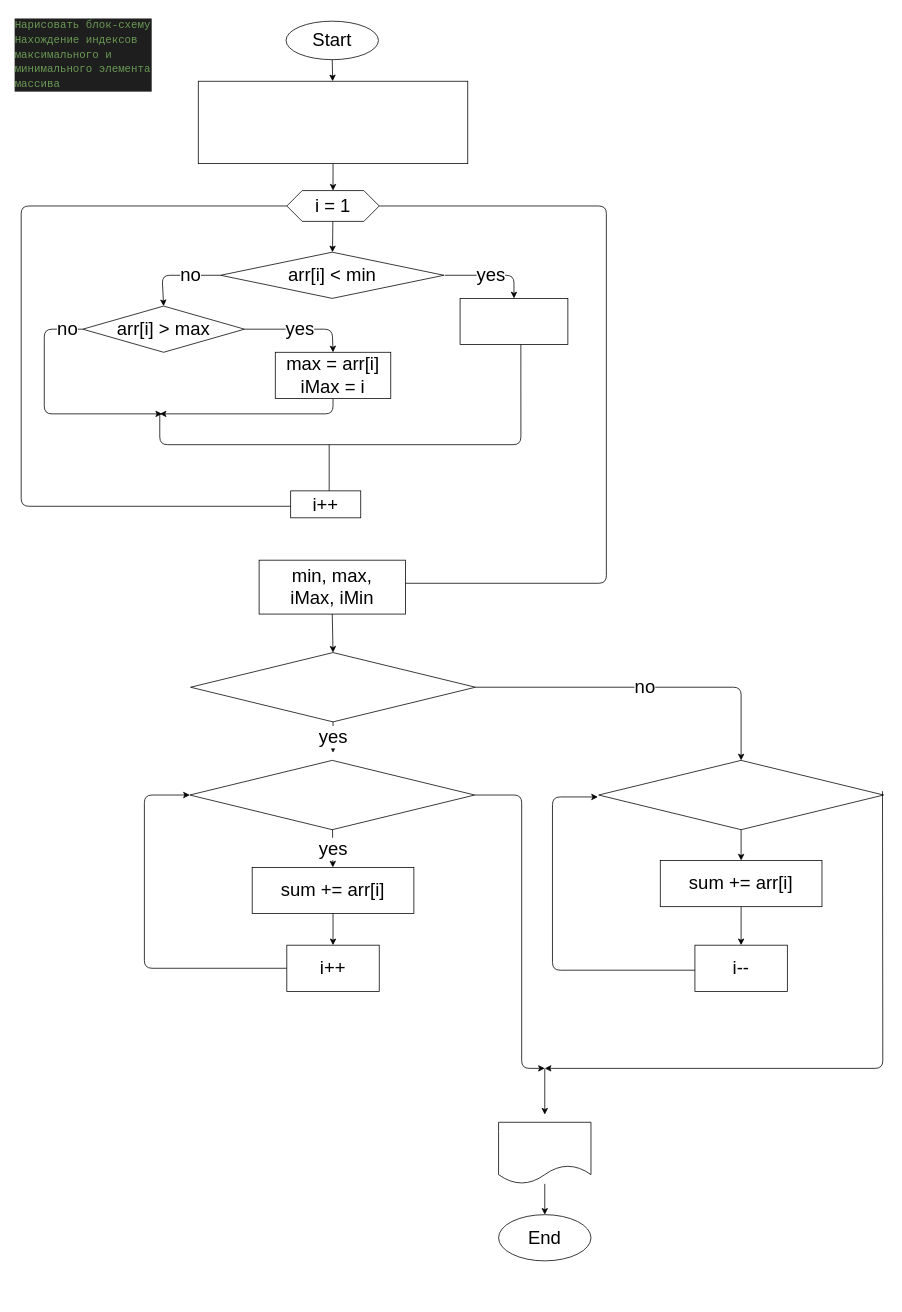
Some shapes in this 902 by 1312 pixel diagram are drawn without their labels. Each missing label, with the centre of its shape:
"arr, len, iMax = 0, iMin = 0, max = arr[iMax], min = arr[iMin]" goes at [333,122].
"i <= iMax" goes at [332,795].
"i >= iMax" goes at [741,795].
"iMin < iMax" goes at [332,687].
"min = arr[i] iMin = i" goes at [513,321].
"Sum" goes at [544,1153].
